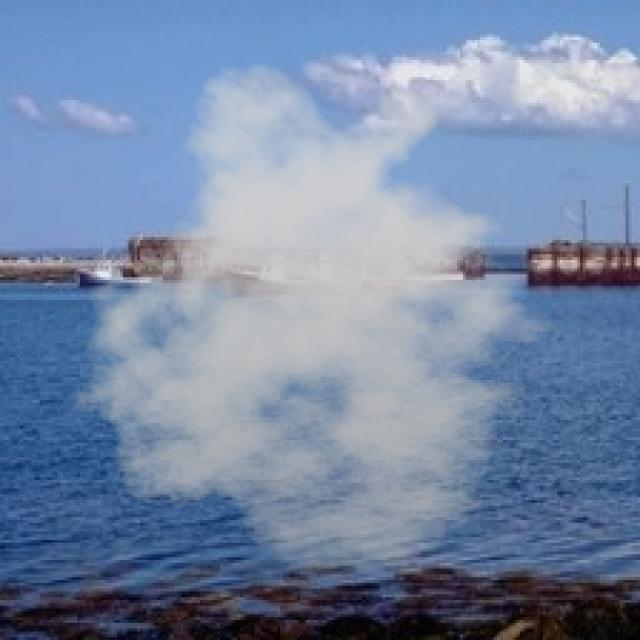smoke: (57, 60, 580, 577)
